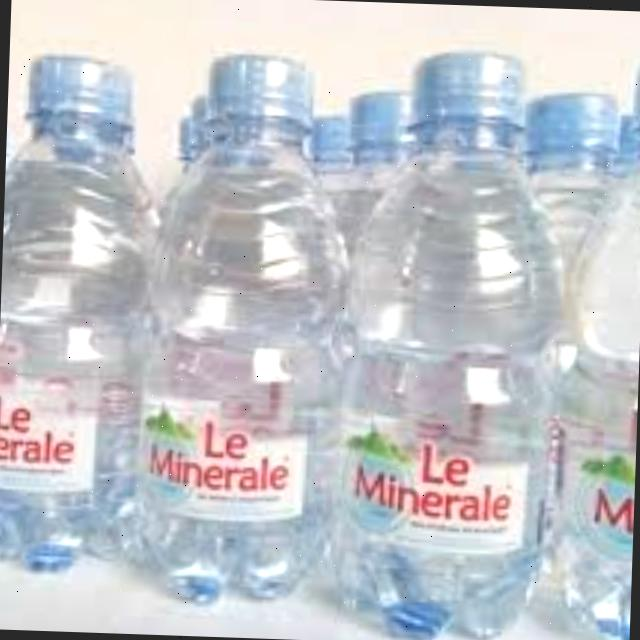trash: (326, 42, 577, 640), (131, 46, 356, 615), (0, 46, 170, 577), (553, 47, 640, 640)
